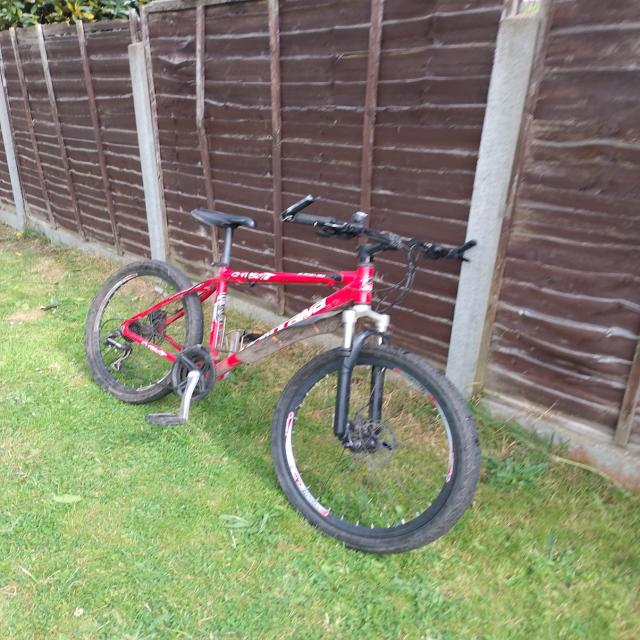bicycle: (75, 180, 517, 572)
